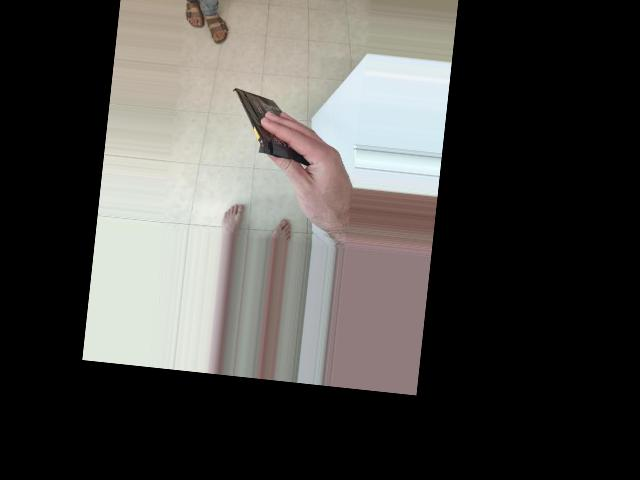chocolate: (179, 37, 271, 144)
